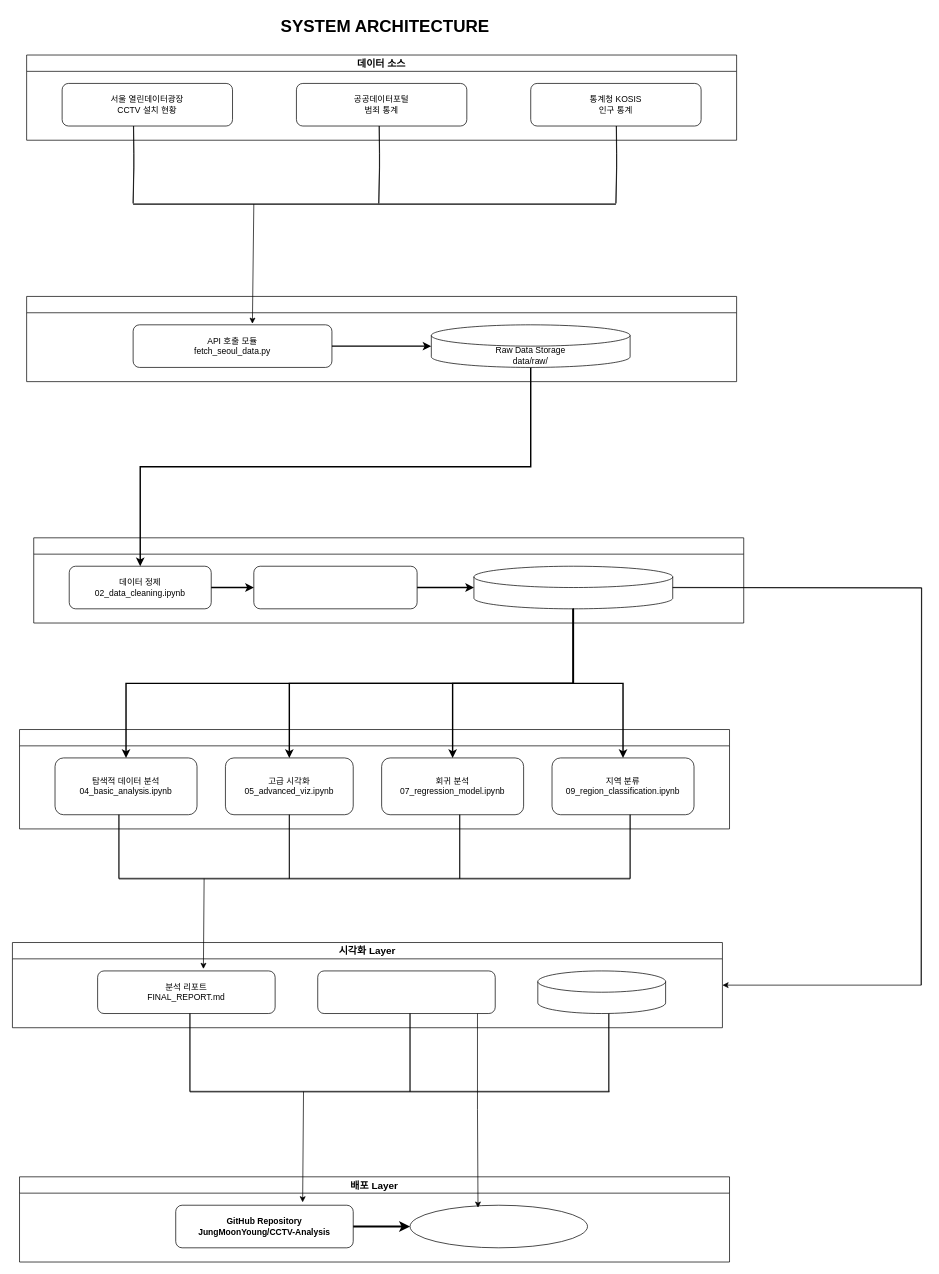
Image size: 939x1274. Some labels were removed from this diagram. The shapes that lost their labels are listed below. From the top down, each one's box as (x1, y1, x2, y2) in pixels, then its label:
(26, 296, 737, 382): 데이터 수집 Layer
(253, 566, 417, 609): 데이터 통합 03_data_integration.ipynb
(33, 537, 744, 623): 데이터 처리 Layer
(473, 566, 673, 609): Processed Data data/processed/
(19, 729, 730, 829): 분석 Layer
(317, 970, 495, 1014): 인터랙티브 대시보드 dashboard.py (Streamlit)
(537, 970, 666, 1014): 결과 파일 results/
(409, 1205, 588, 1248): Streamlit Cloud 공개 URL
